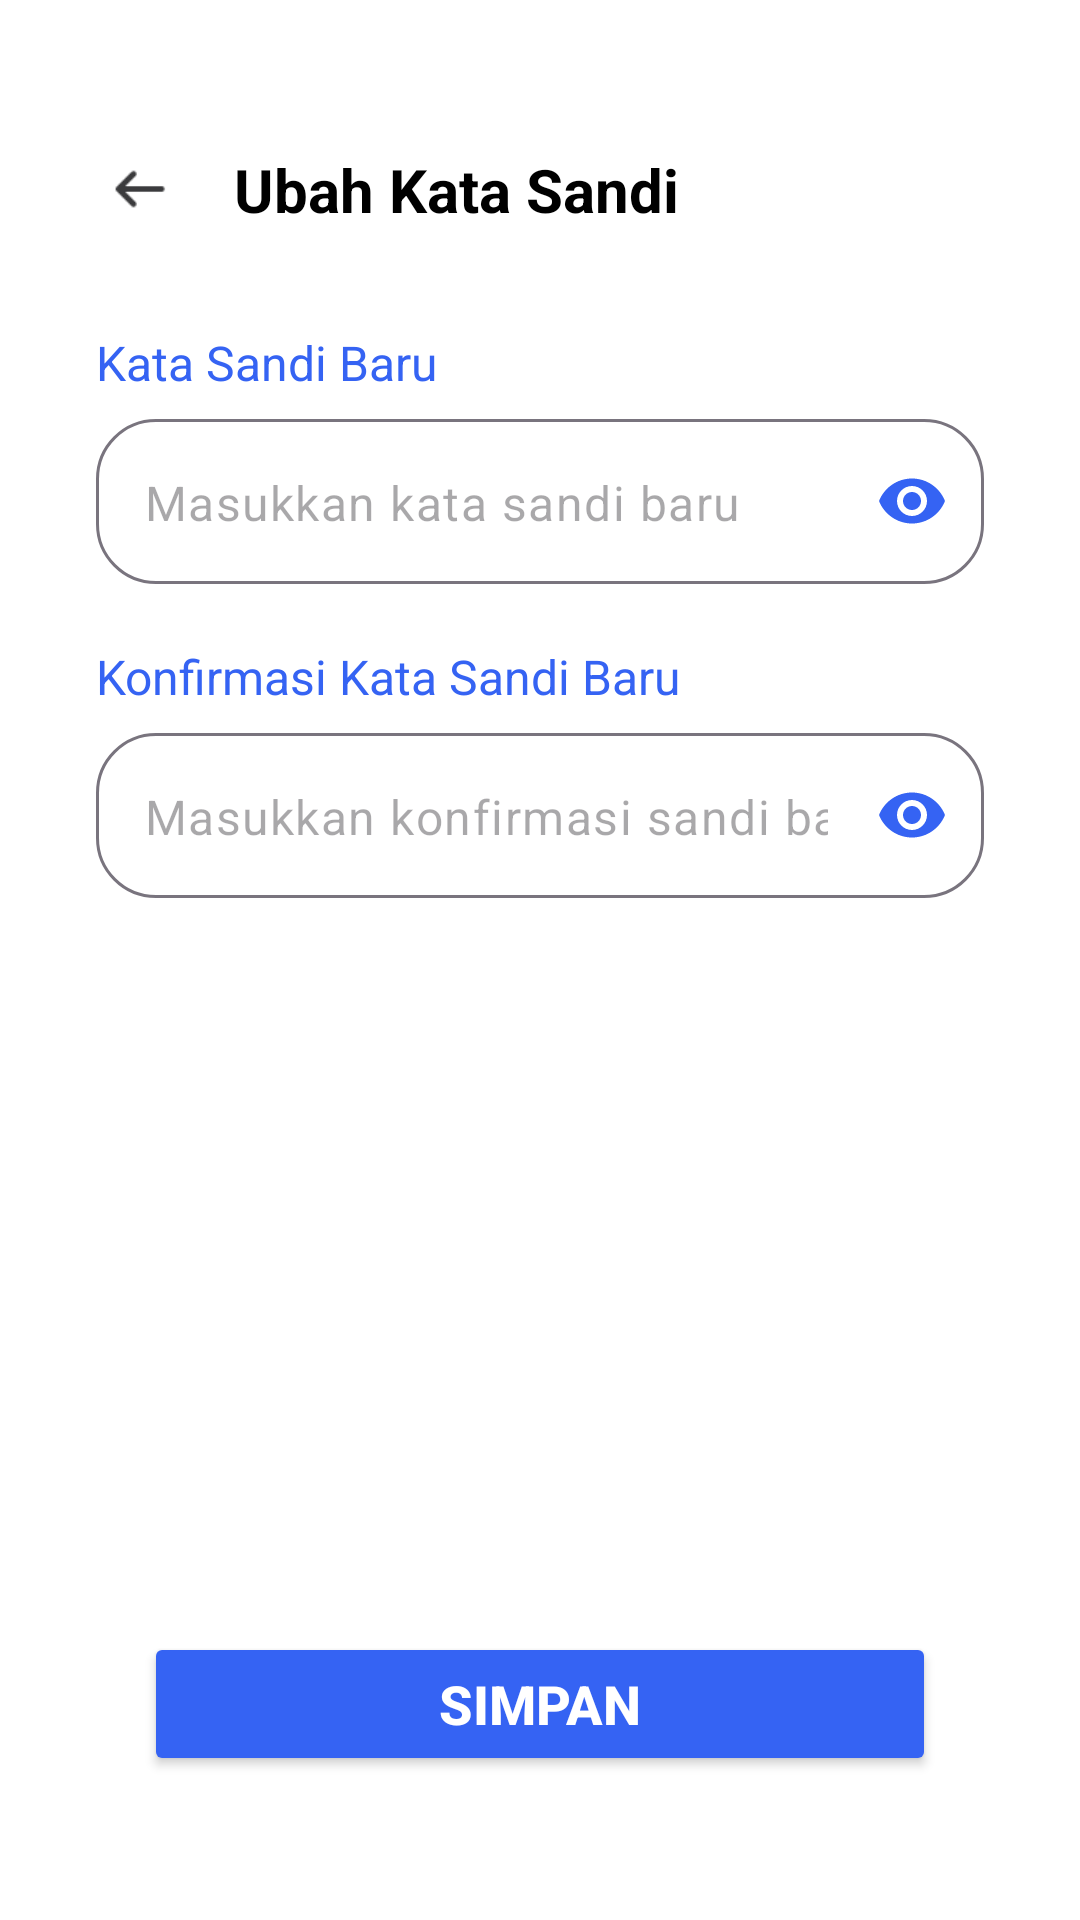

Point at icon controls on the screen. Image size 1080×1920, points as [x,y].
Kembali ke halaman login: [140,189]
